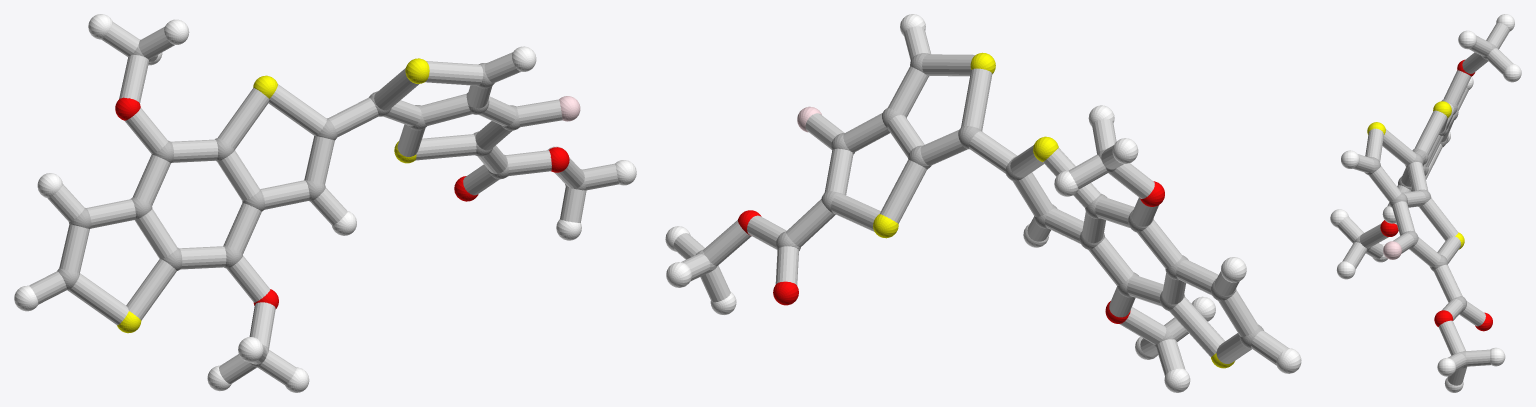
The model's file is Dimethoxy_Benzodithiophene_Phi_20_Theta_240_Methylcarbonyl_3_Fluoro_Thienothiophene.glb.
The picture shows the model from 3 angles, left to right: view 1: azimuth 30°, elevation 25°; view 2: azimuth 150°, elevation 25°; view 3: azimuth 270°, elevation 25°; orthographic projection. The views are drawn at different scales.
Visible parts, largest first — view 1: grp15205, grp8689, grp1, grp7241, grp13395; view 2: grp15205, grp8689, grp1, grp7241, grp13395; view 3: grp15205, grp8689, grp1, grp13395, grp7241, grp14843.
Boxes of the visible parts, left/top/right/bottom form: grp15205: left=29, top=22, right=618, bottom=385; grp8689: left=14, top=14, right=636, bottom=392; grp1: left=57, top=39, right=586, bottom=367; grp7241: left=117, top=58, right=429, bottom=333; grp13395: left=115, top=97, right=569, bottom=308; grp15205: left=673, top=26, right=1288, bottom=375; grp8689: left=665, top=14, right=1301, bottom=392; grp1: left=696, top=53, right=1263, bottom=348; grp7241: left=873, top=52, right=1234, bottom=368; grp13395: left=738, top=181, right=1164, bottom=323; grp15205: left=1337, top=22, right=1513, bottom=385; grp8689: left=1330, top=14, right=1521, bottom=392; grp1: left=1354, top=43, right=1497, bottom=368; grp13395: left=1380, top=59, right=1492, bottom=331; grp7241: left=1367, top=101, right=1464, bottom=249; grp14843: left=1383, top=241, right=1401, bottom=259.
Bounding box in the file's own units: 16.79 × 8.3 × 6.1.
